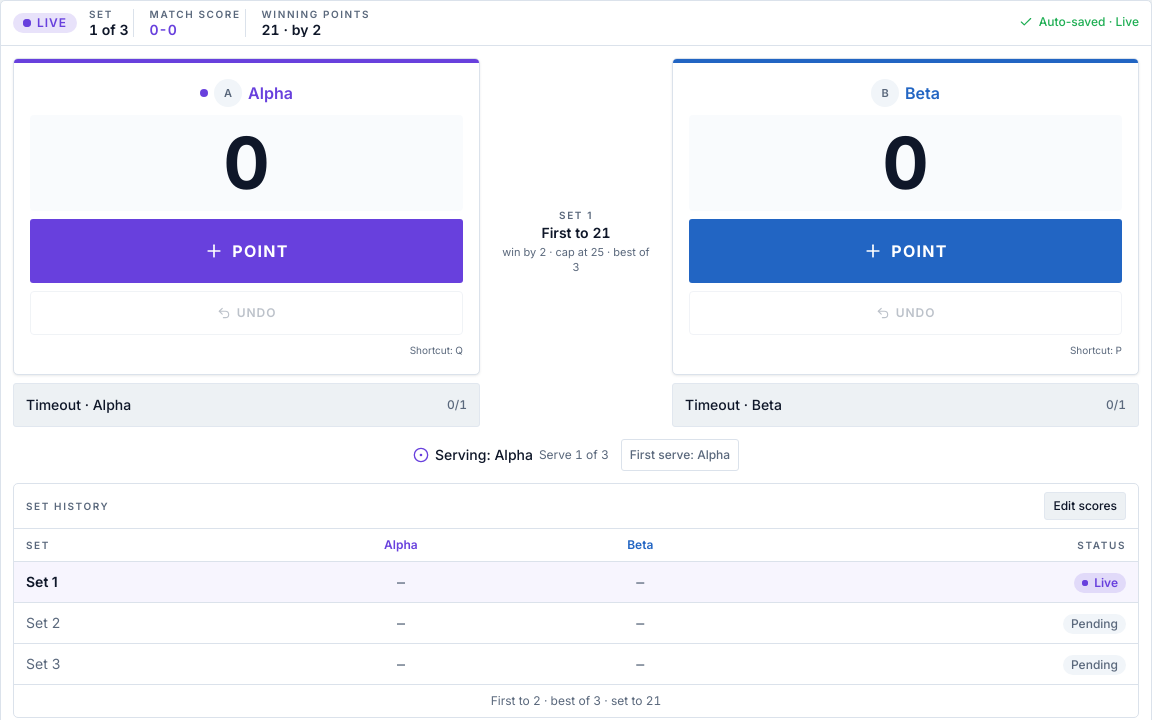
Test: SepakConsole › timeout logs once per side per set, then disables
Click the button with test id "timeout-home".
click(53, 404)  # box [13, 383, 480, 427]
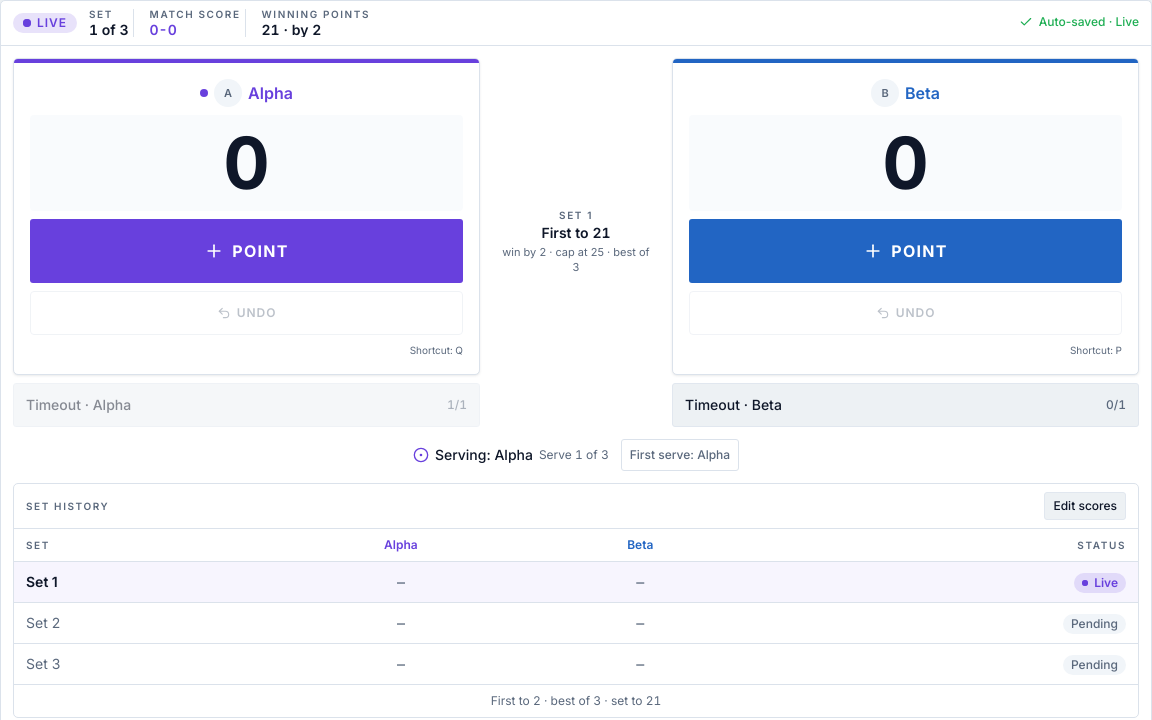
Check: the button with test id "timeout-away" is enabled, box [672, 383, 1139, 427]
Check: the button with test id "timeout-home" is disabled, box [13, 383, 480, 427]
Check: the button with test id "timeout-home" shows "1/1", box [13, 383, 480, 427]
